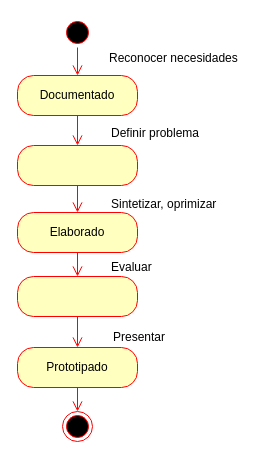
Some shapes in this 275 by 459 pixel diagram are drawn without their labels. The centre of each missing label's shape, as x and y in pixels:
"Definido" goes at point 77,165.
"En pruebas" goes at point 77,296.
